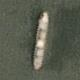ship: (12, 7, 63, 73)
